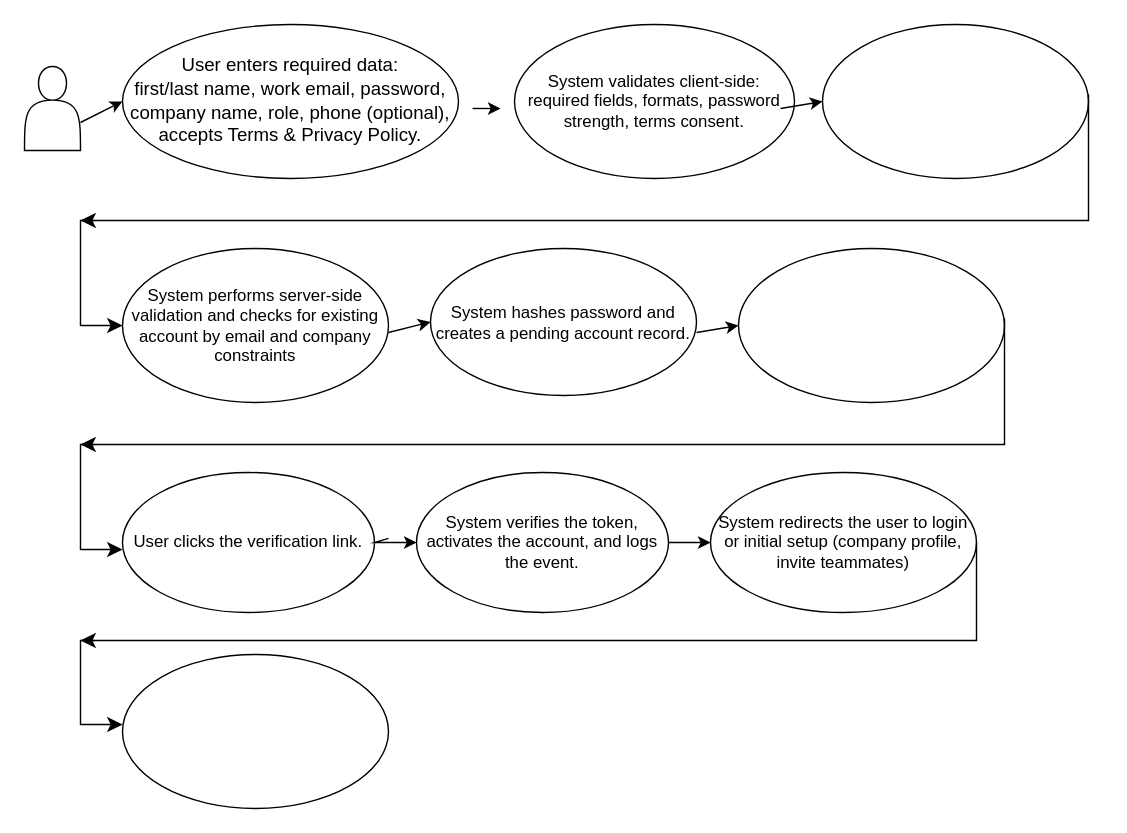
Some shapes in this 1127 by 833 pixel diagram are drawn without their labels. The shapes that lost their labels are listed below. From the top down, each one's box as (x1, y1, x2, y2) in pixels, then its label:
(821, 23, 1088, 178): User submits form
(737, 247, 1004, 402): System sends a verification email with a time-bound token.
(121, 653, 388, 808): Success message is shown
